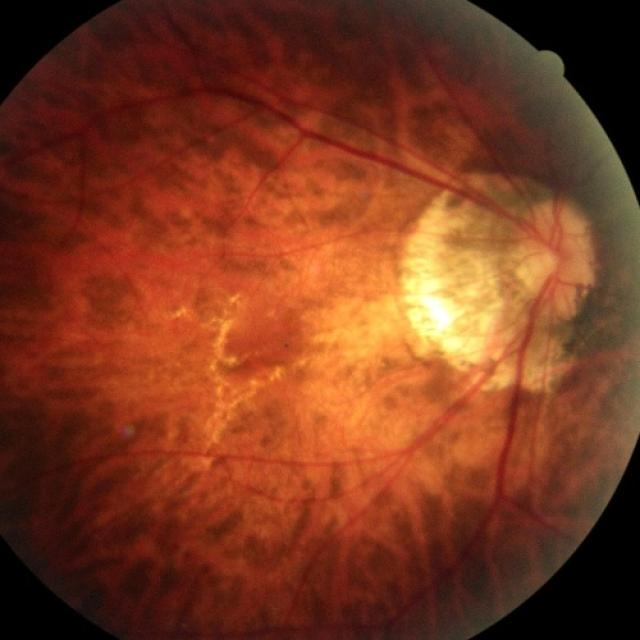OC: (540, 248, 561, 270)
OD: (517, 201, 593, 297)
